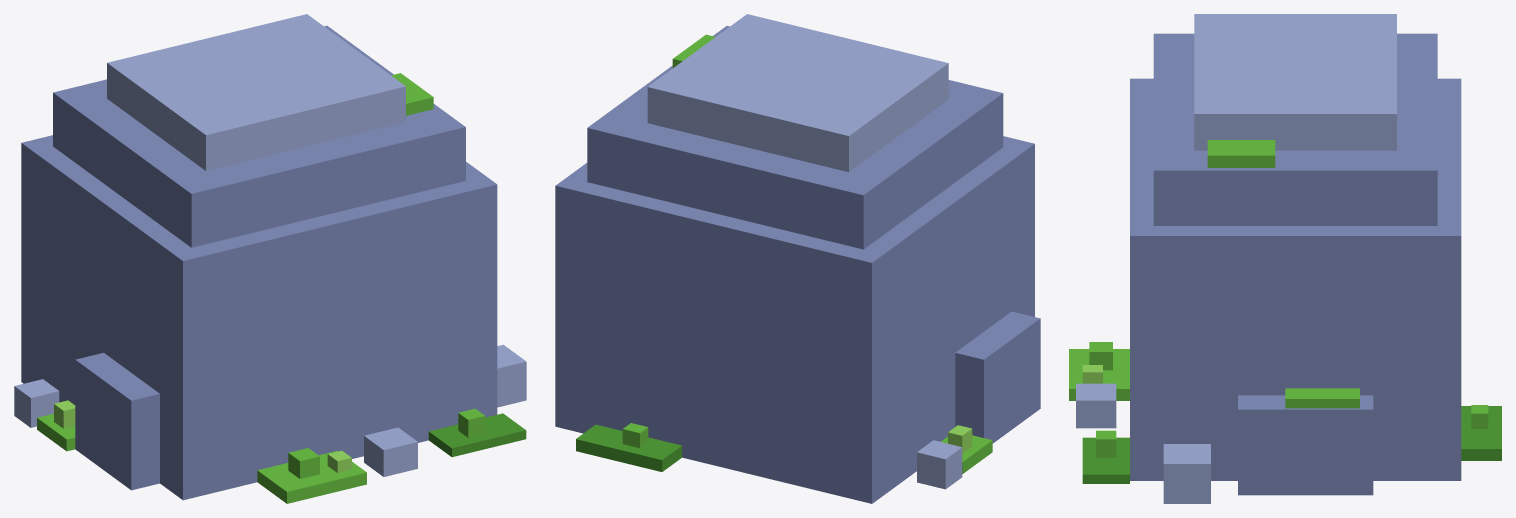
File: Windswept_Boulder.glb
3 renders of one model, left to right at view 1: azimuth 30°, elevation 25°; view 2: azimuth 150°, elevation 25°; view 3: azimuth 270°, elevation 25°, orthographic. The views are drawn at different scales.
Parts seen in each view (by area): view 1: Rock_Body, Rock_Step, Rock_Crown, Rock_Chunk_L, Grass_Front_1, Grass_Front_2, Pebble_3, Pebble_2, Pebble_1, Grass_Left, Grass_Ledge, Grass_Front_1a (+1 smaller); view 2: Rock_Body, Rock_Step, Rock_Crown, Rock_Chunk_L, Grass_Back, Pebble_2, Grass_Left, Grass_Back_a; view 3: Rock_Body, Rock_Step, Rock_Crown, Rock_Chunk_R, Pebble_1, Grass_Ledge, Grass_Back, Pebble_3, Grass_Front_2, Grass_Front_1, Grass_Chunk_R, Grass_Front_1a (+1 smaller).
Part boxes in pixels (box(x1,y1,x2,y2)): Rock_Body: box(21, 135, 497, 500); Rock_Step: box(53, 25, 465, 247); Rock_Crown: box(107, 14, 405, 170); Rock_Chunk_L: box(75, 352, 159, 490); Grass_Front_1: box(257, 451, 366, 503); Grass_Front_2: box(428, 413, 526, 457); Pebble_3: box(364, 427, 417, 476); Pebble_2: box(14, 379, 59, 427); Pebble_1: box(497, 344, 526, 407); Grass_Left: box(37, 413, 75, 451); Grass_Ledge: box(391, 73, 433, 115); Grass_Front_1a: box(288, 448, 319, 478); Rock_Body: box(555, 136, 1034, 503); Rock_Step: box(587, 26, 1003, 249); Rock_Crown: box(647, 14, 948, 172); Rock_Chunk_L: box(955, 311, 1040, 443); Grass_Back: box(576, 424, 681, 471); Pebble_2: box(917, 440, 962, 489); Grass_Left: box(941, 435, 992, 473); Grass_Back_a: box(622, 423, 648, 447); Rock_Body: box(1130, 78, 1461, 480); Rock_Step: box(1153, 33, 1437, 225); Rock_Crown: box(1194, 14, 1396, 150); Rock_Chunk_R: box(1238, 395, 1373, 495); Pebble_1: box(1163, 444, 1210, 503); Grass_Ledge: box(1207, 140, 1275, 167); Grass_Back: box(1461, 406, 1501, 460); Pebble_3: box(1076, 383, 1116, 428); Grass_Front_2: box(1082, 437, 1129, 483); Grass_Front_1: box(1069, 349, 1129, 400); Grass_Chunk_R: box(1285, 388, 1359, 408); Grass_Front_1a: box(1089, 342, 1112, 370).
Bounding box in the file's own units: 1.4 × 1.1 × 1.28.
